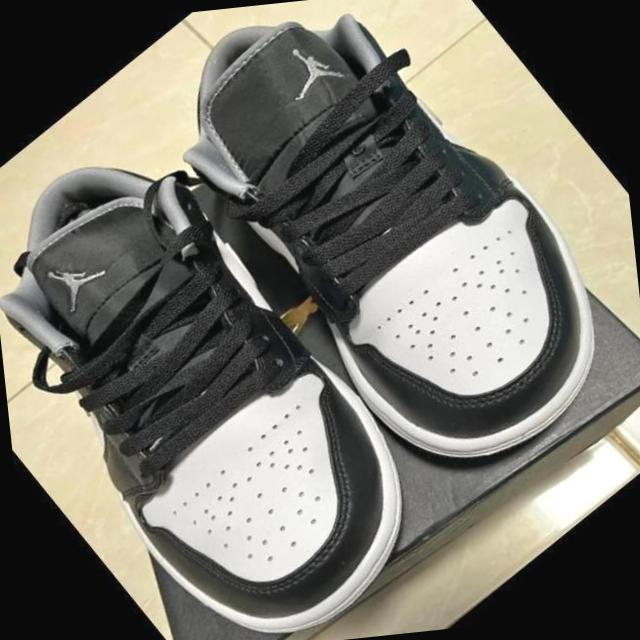nike_original_jordan: (125, 0, 640, 533), (0, 82, 478, 640)
